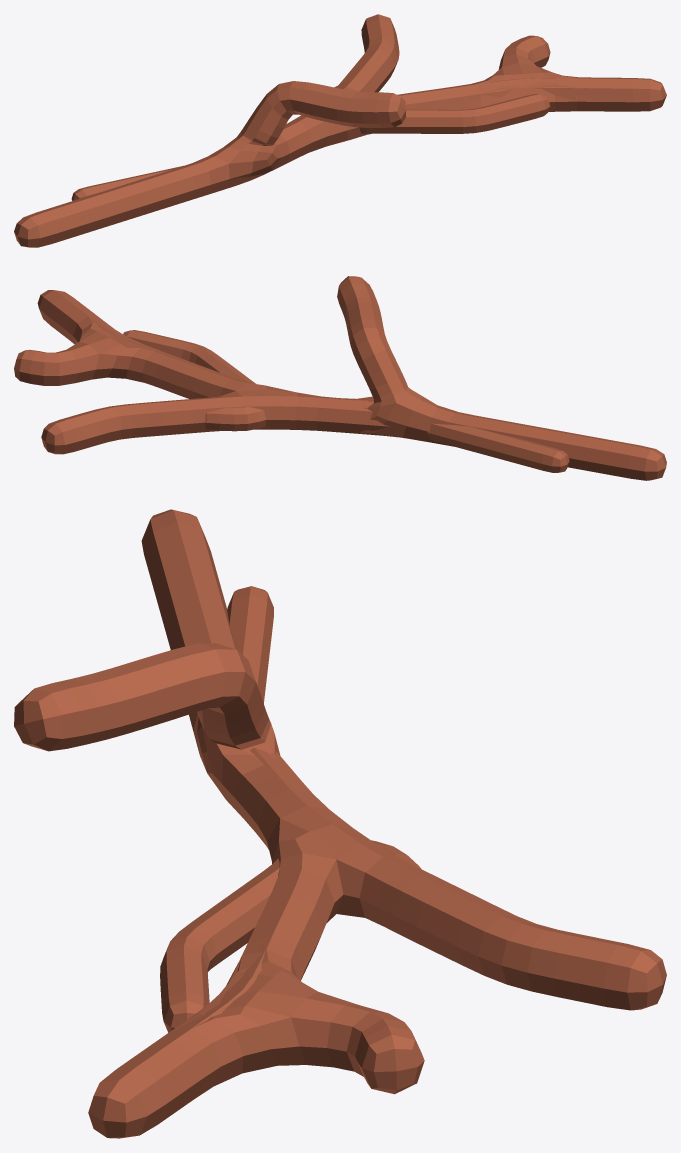
File: Sticks.fbx
The picture shows the model from 3 angles, top to bottom: view 1: azimuth 30°, elevation 25°; view 2: azimuth 150°, elevation 25°; view 3: azimuth 270°, elevation 25°; orthographic projection. The views are drawn at different scales.
Parts seen in each view (by area): view 1: Cube.054, Cube.052, Cube.053; view 2: Cube.052, Cube.054, Cube.053; view 3: Cube.052, Cube.054, Cube.053.
Boxes of the visible parts, box(x1,y1,x2,y2) form: Cube.054: box(14, 14, 631, 247); Cube.052: box(14, 14, 666, 247); Cube.053: box(71, 86, 550, 200); Cube.052: box(38, 290, 666, 480); Cube.054: box(14, 276, 666, 464); Cube.053: box(123, 330, 569, 472); Cube.052: box(88, 509, 666, 1138); Cube.054: box(14, 530, 662, 1137); Cube.053: box(160, 586, 421, 1032).
Bounding box in the file's own units: 77.5 × 11.5 × 35.87.
